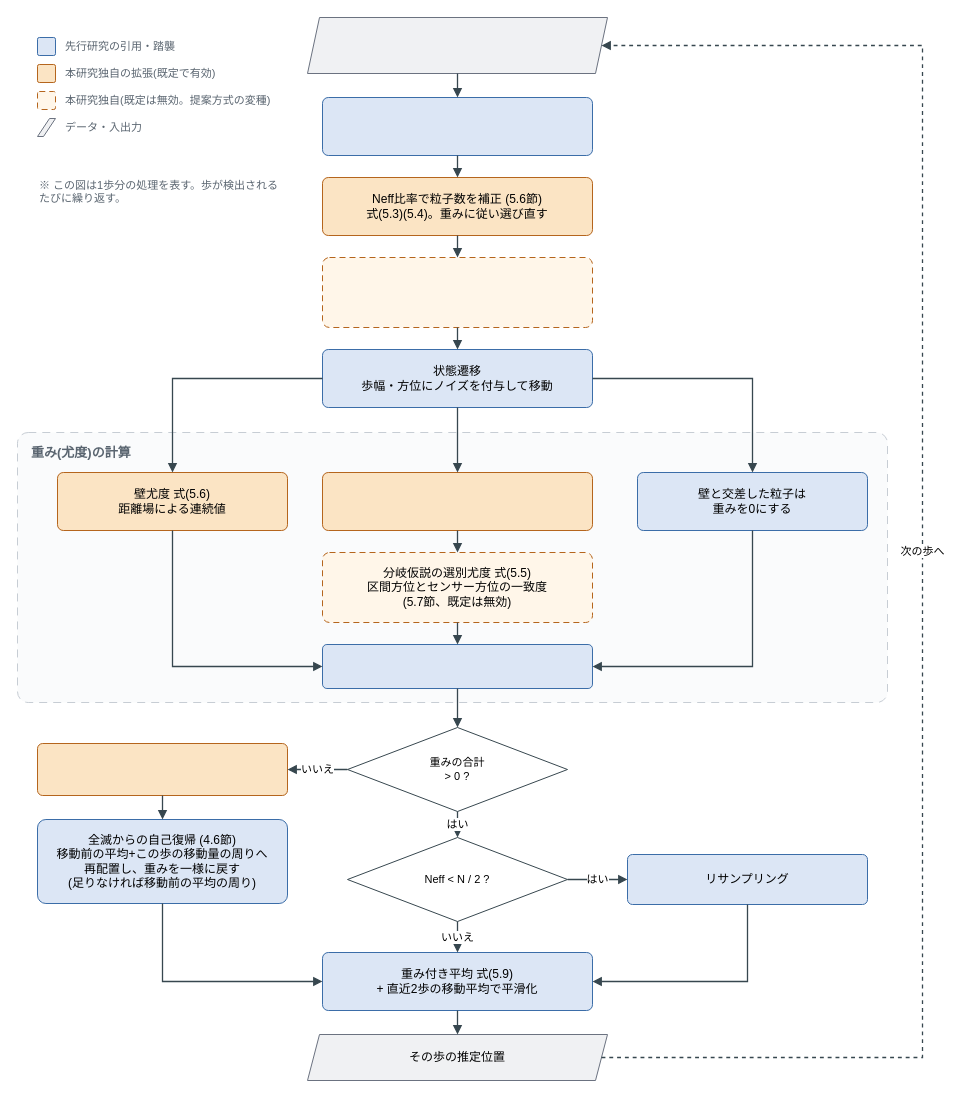
This 962x1098 diagram has some shape labels left out. Each missing label, with the centre of its shape:
全滅回数を記録 (評価指標 6.6節): the point at 162,769
前の歩の粒子群 + この歩の 歩幅・方位・移動様態 + 地図制約情報: the point at 457,45
移動様態別に粒子数・分散を設定 (4.7節。直進250 / 曲がり600): the point at 457,126
経路帯の重み 式(5.7) none / prefer / enforce: the point at 457,501
複数経路仮説 (5.7節): 粒子ごとに 区間を進め、交差点で分岐し 区間の向きで方位を補正 式(5.1): the point at 457,292
重みの積を正規化 式(5.8): the point at 457,666
